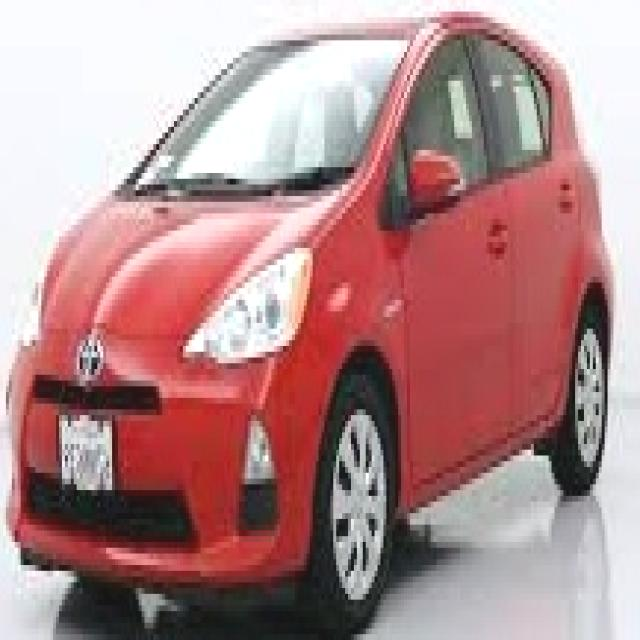red: (0, 0, 605, 623)
